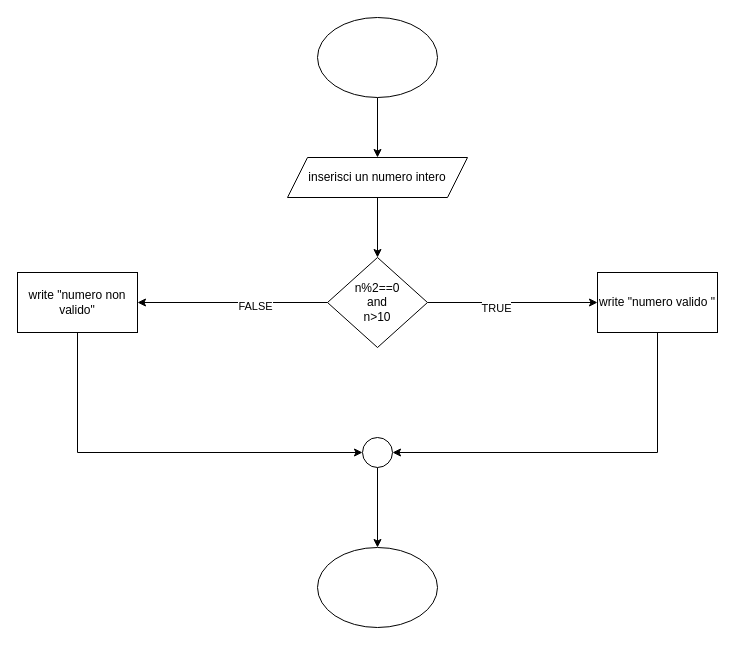
Some shapes in this 735 by 645 pixel diagram are drawn without their labels. Here are the shapes that lost their labels. From the top down, the box of each, then its label:
(316, 16, 438, 98): INIZIO
(316, 546, 438, 628): FINE
